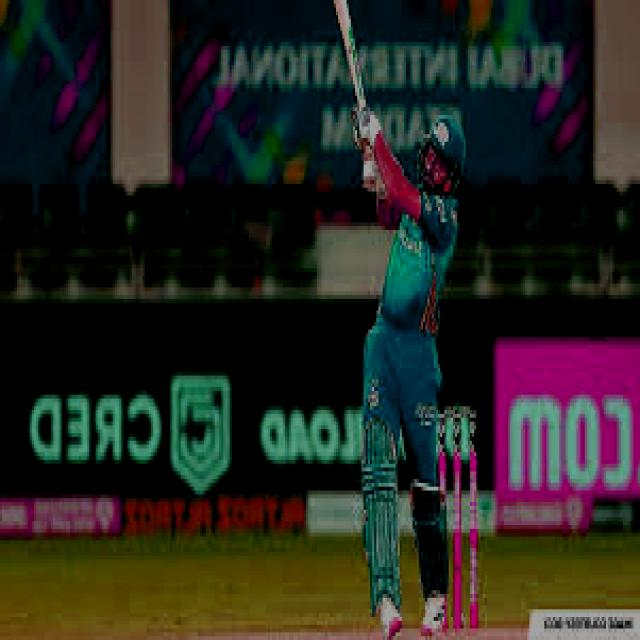toe: (331, 0, 353, 15)
